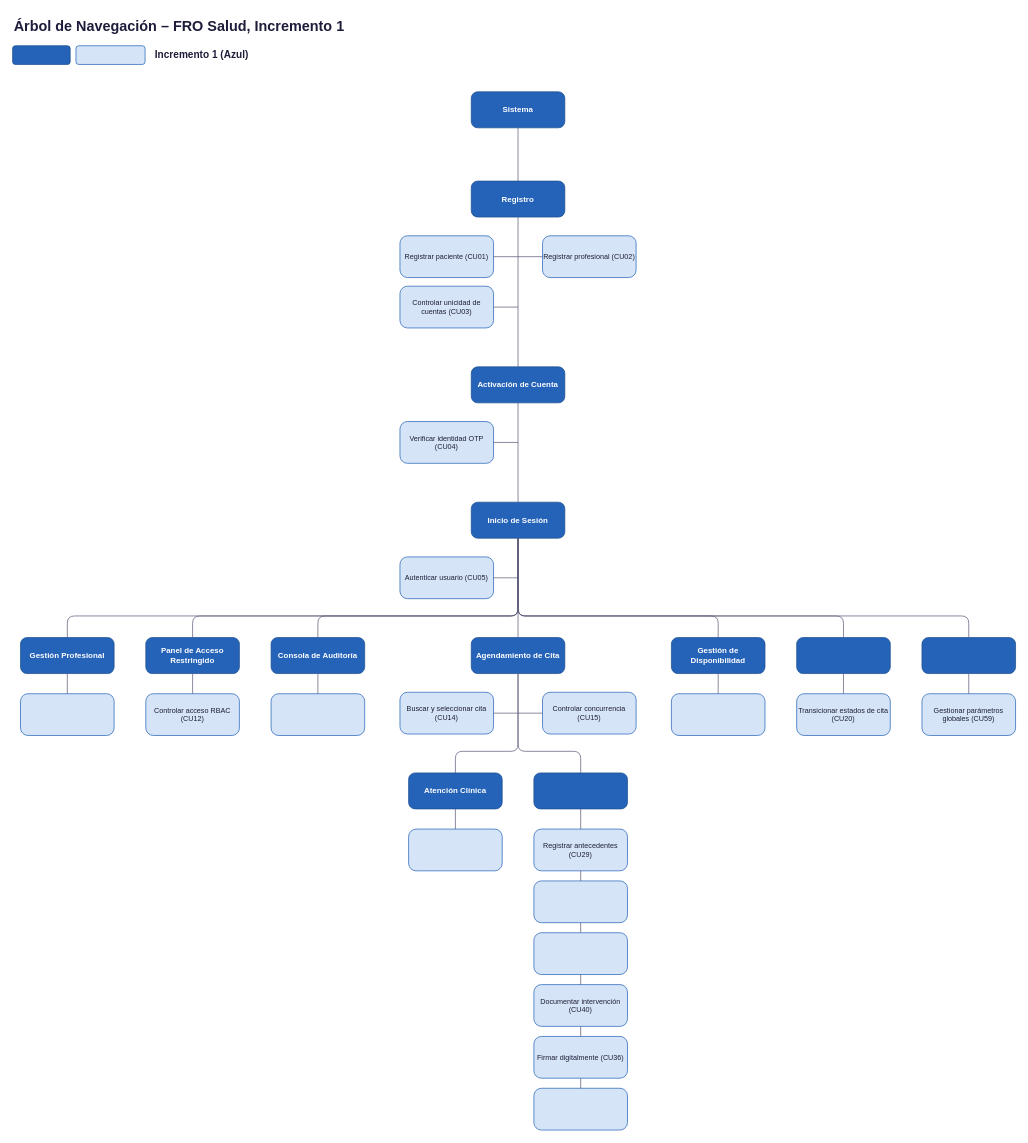
Some shapes in this 1028 by 1143 pixel diagram are drawn without their labels. The shapes that lost their labels are listed below. From the top down, each one's centre as x and y in pixels, then its label:
At point 41,54: "Interfaz".
At point 110,54: "Funcionalidad".
At point 843,655: "Gestión de Agenda".
At point 968,655: "Gestión de Parámetros".
At point 67,714: "Visualizar panel profesional (CU11)".
At point 317,714: "Registrar bitácora de auditoría (CU13)".
At point 718,714: "Restringir disponibilidad (CU16)".
At point 580,790: "Ficha Clínica".
At point 455,849: "Consolidar ficha clínica (CU28)".
At point 580,901: "Asegurar inalterabilidad (CU30)".
At point 580,953: "Definir metas y objetivos (CU32)".
At point 580,1109: "Registrar marcas temporales (CU38)".
